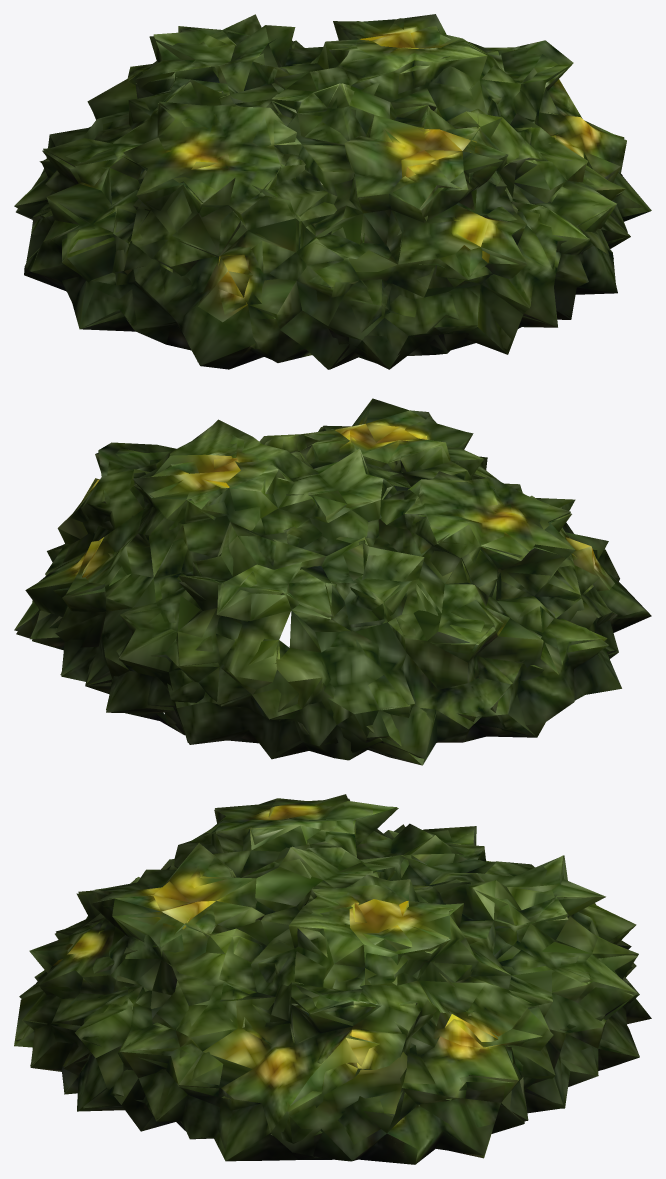
File: bush-3.glb
The picture shows the model from 3 angles, top to bottom: view 1: azimuth 30°, elevation 25°; view 2: azimuth 150°, elevation 25°; view 3: azimuth 270°, elevation 25°; orthographic projection. The views are drawn at different scales.
Parts seen in each view (by area): view 1: terrain-bush-3; view 2: terrain-bush-3; view 3: terrain-bush-3.
Boxes of the visible parts, bbox=[...] form: terrain-bush-3: bbox=[14, 14, 651, 369]; terrain-bush-3: bbox=[14, 398, 651, 765]; terrain-bush-3: bbox=[14, 794, 651, 1164].
Size of the model in its own units: 0.3104 by 0.1016 by 0.3059.
Materials: 1 (1 with a texture image).
